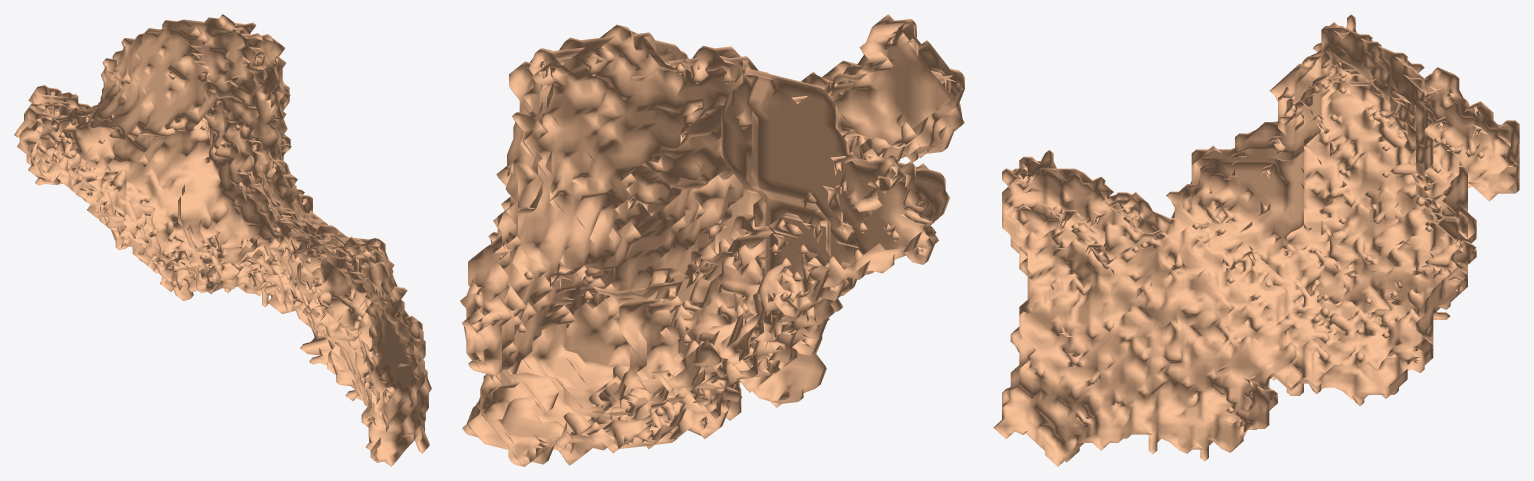
The model's file is osteocyte_229.glb.
The picture shows the model from 3 angles, left to right: view 1: azimuth 30°, elevation 25°; view 2: azimuth 150°, elevation 25°; view 3: azimuth 270°, elevation 25°; orthographic projection. The views are drawn at different scales.
Visible parts, largest first — view 1: osteocyte_229; view 2: osteocyte_229; view 3: osteocyte_229.
Boxes of the visible parts, x1=… form: osteocyte_229: x1=14, y1=14, x2=431, y2=466; osteocyte_229: x1=460, y1=14, x2=964, y2=466; osteocyte_229: x1=993, y1=14, x2=1519, y2=466.
Size of the model in its own units: 22.63 by 22.15 by 29.37.
